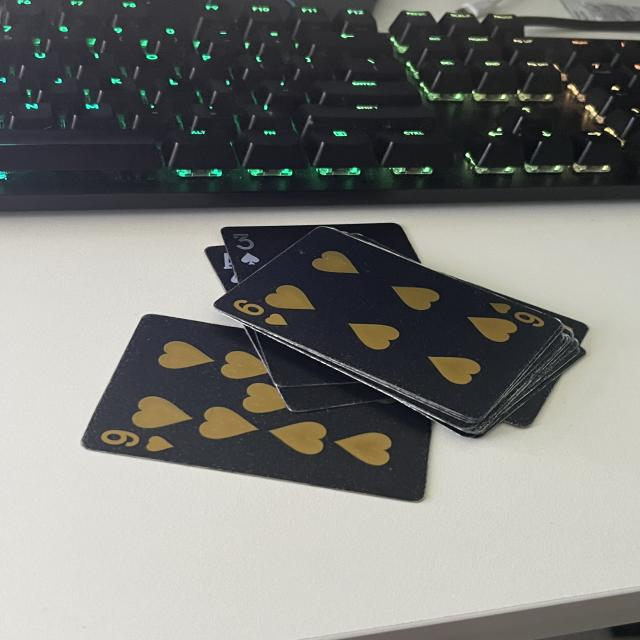3S: (218, 228, 268, 266)
6H: (222, 292, 298, 330), (486, 291, 547, 327)
9H: (95, 427, 179, 461)
